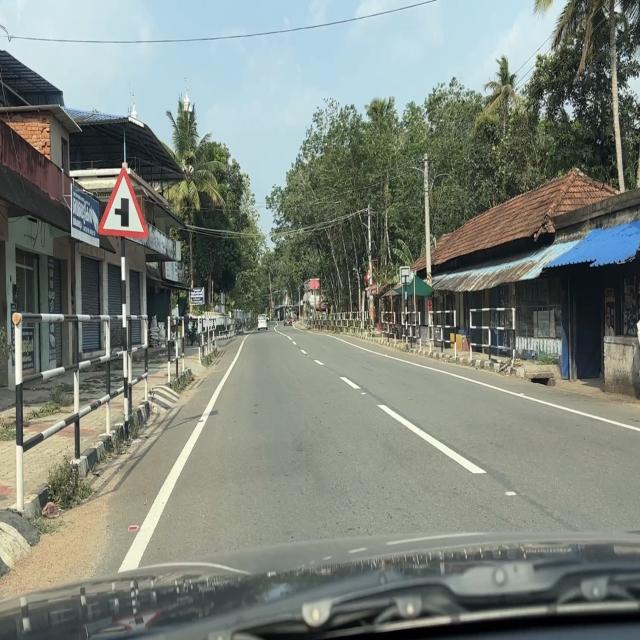SIDE_ROAD_LEFT: (96, 165, 151, 242)
